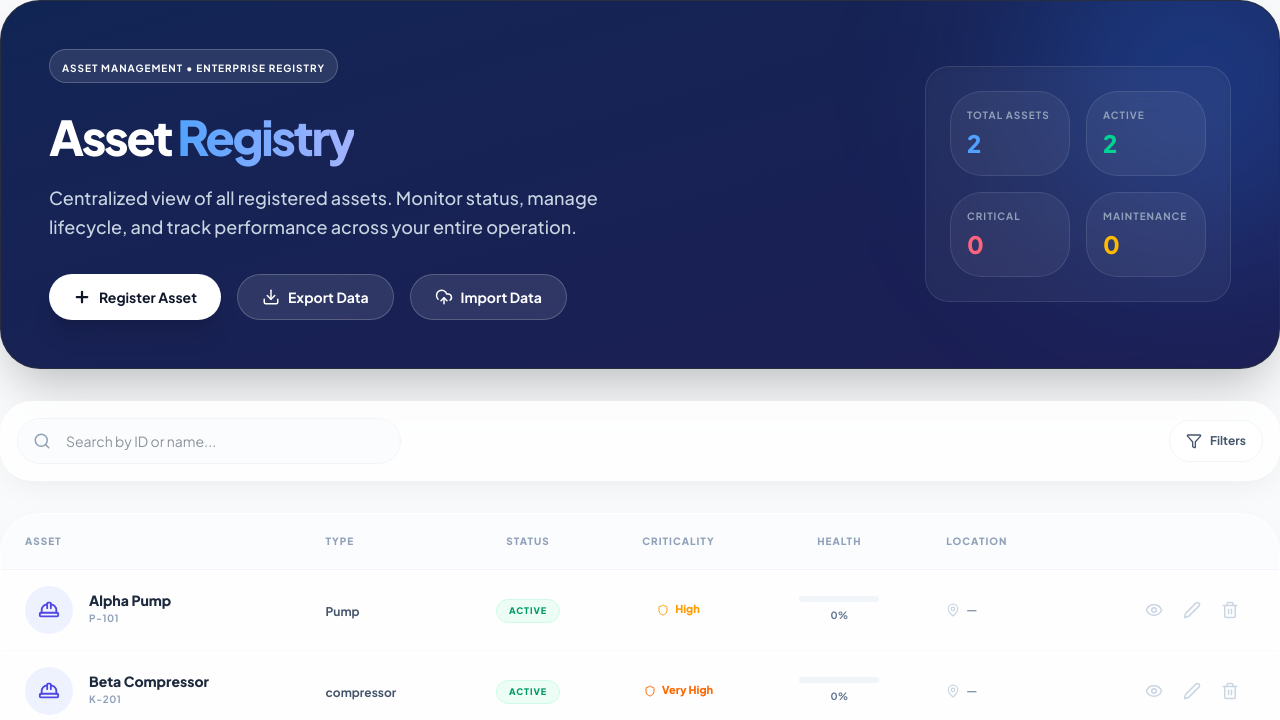
Test: AssetRegistryPage with TanStack Query › filters assets by search term interactively
The image size is (1280, 720).
Expected: the text "Alpha Pump" is shown, [89,593,171,607]
Expected: the text "Beta Compressor" is shown, [89,674,209,688]
Type "Alpha" into the field with placeholder "Search by ID or name..." at {"x": 209, "y": 440}, box [17,418,401,464]
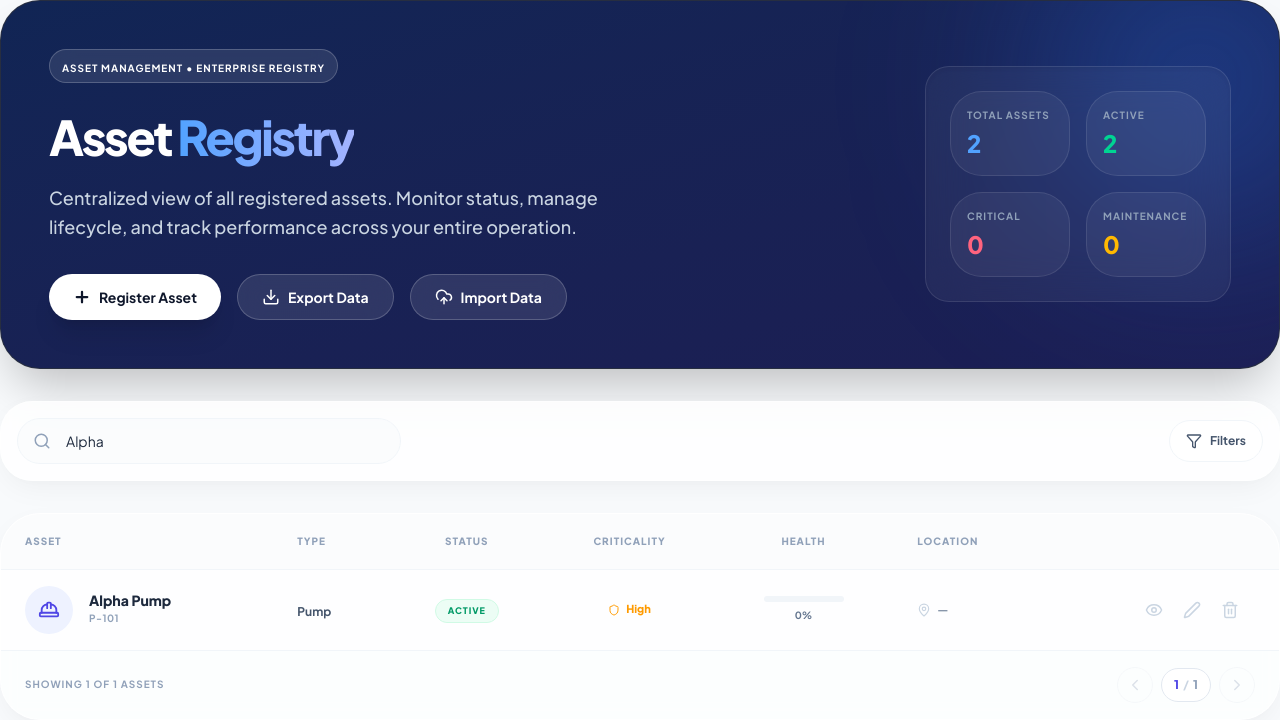
Expected: the text "Alpha Pump" is shown, [89,593,171,607]
Now the text "Beta Compressor" is gone
